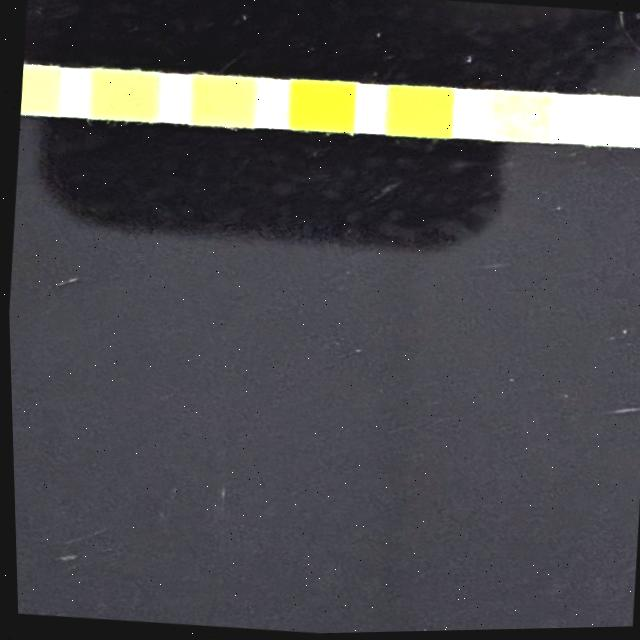Bilirubin: (585, 98, 640, 152)
Blood: (289, 80, 356, 134)
Ketone: (488, 92, 553, 145)
Protein: (91, 68, 156, 122)
SpGravity: (386, 87, 453, 140)
Urobilinogen: (19, 65, 58, 117)
pH: (191, 76, 257, 129)
